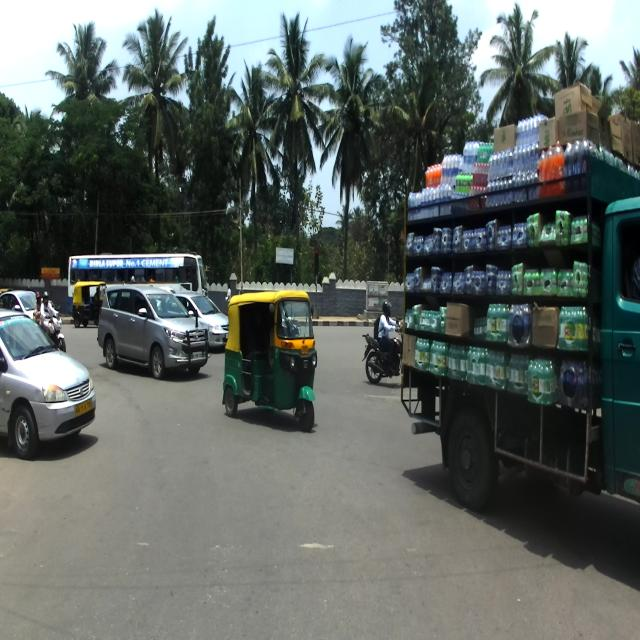auto ahead at: (226, 289, 318, 434)
car ahead at: (0, 305, 94, 458), (97, 281, 210, 377)
truck ahead at: (400, 89, 640, 544)
